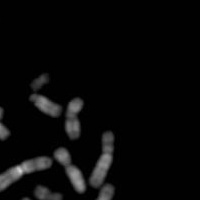chromosome: (0, 156, 52, 193), (88, 132, 114, 188), (54, 147, 85, 192), (65, 97, 83, 141), (66, 184, 114, 200), (30, 94, 61, 117), (34, 186, 61, 200), (30, 73, 49, 90), (0, 109, 9, 141), (17, 197, 60, 200), (0, 72, 2, 119)
